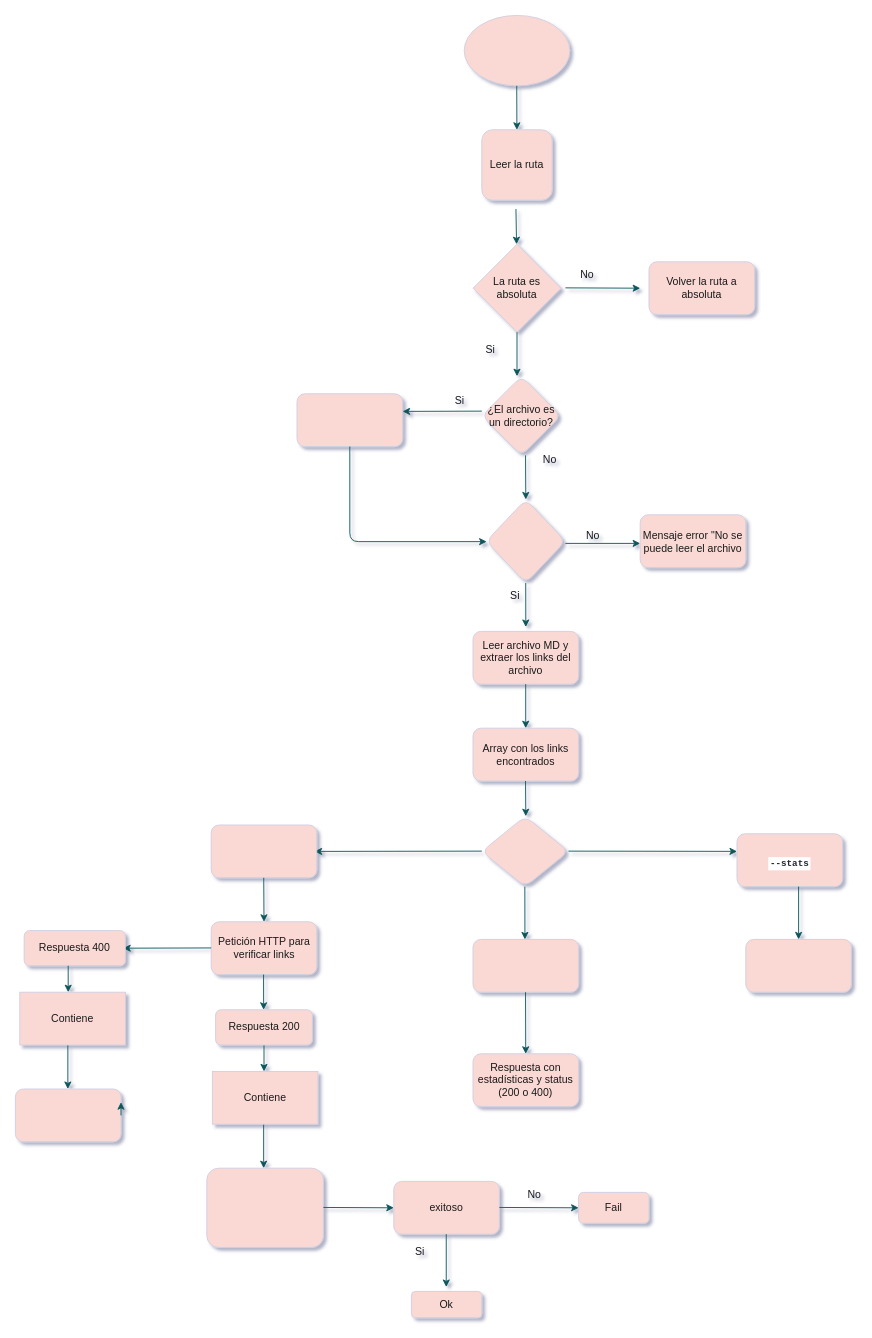
Image size: 872x1338. Some labels were removed from this diagram. Here are the shapes that lost their labels. From the top down, the centre of each, then its label:
pixel 516 50: Inicio Validar Links
pixel 349 420: Se obtiene los archivos
pixel 525 541: Es un Archivo MD
pixel 263 851: --validate
pixel 524 851: Opciones
pixel 525 965: --stats y --validate
pixel 798 965: Texto con estadística básica sobre los links
pixel 68 1115: href text file
pixel 264 1207: href text file status
